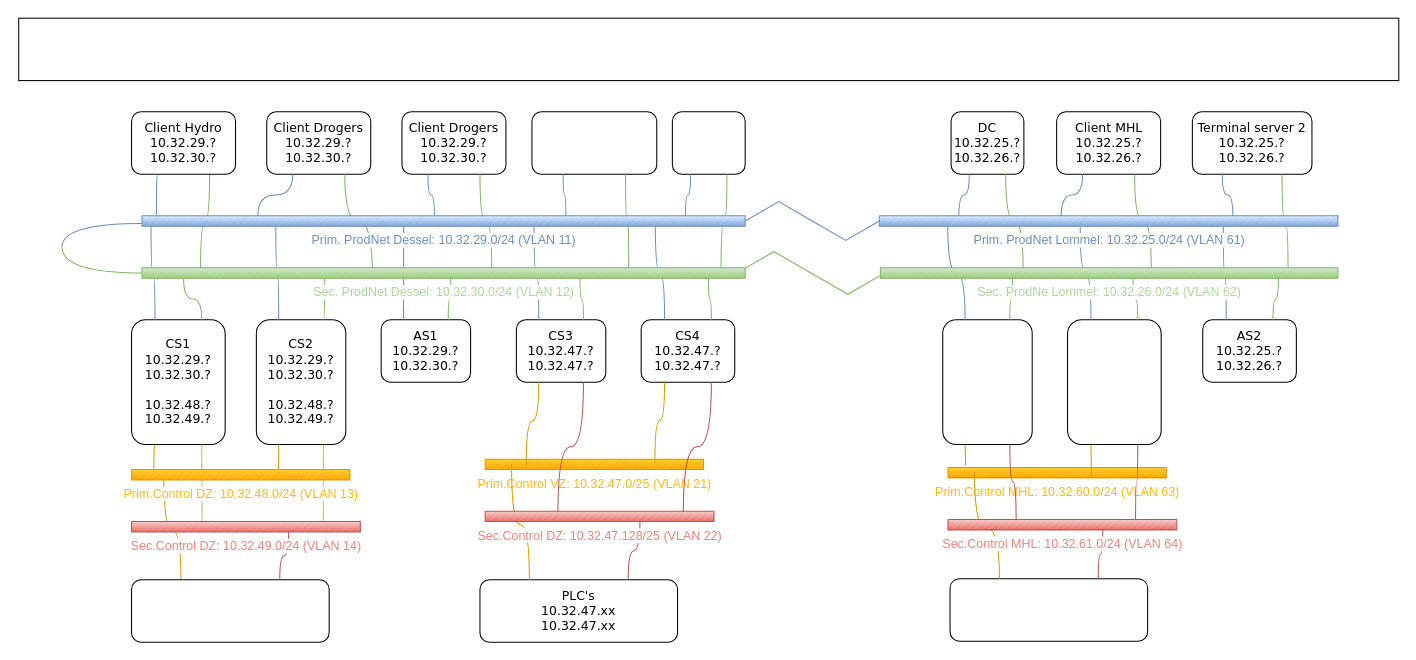
Image size: 1416x660. Some labels were removed from this diagram. The box of each missing label's shape, as (x1, y1, x2, y2) in pixels:
CS5 10.32.25.? 10.32.26.? 10.32.60.? 10.32.61.?: (942, 319, 1032, 445)
CS6 10.32.25.? 10.32.26.? 10.32.60.? 10.32.61.?: (1067, 319, 1161, 445)
DC 10.32.29.? 10.32.30.?: (671, 111, 745, 174)
Netwerk layout ABB Dessel Lommel: (18, 17, 1399, 81)
PLC's 10.32.48.xx 10.32.49.xx: (131, 579, 329, 642)
PLC's 10.32.60.xx 10.32.61.xx: (949, 578, 1148, 641)
Terminal server 1 10.32.29.? 10.32.30.?: (531, 111, 657, 174)
